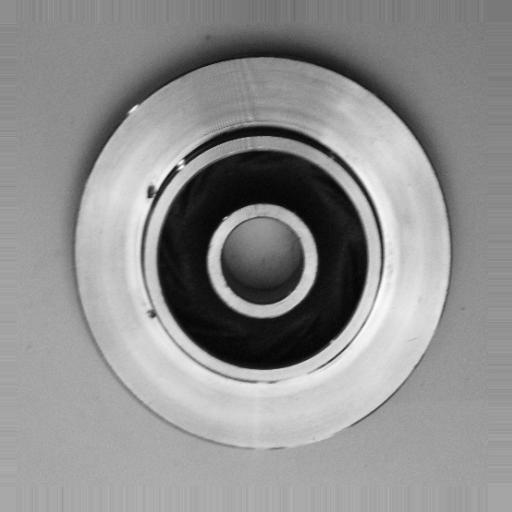crack: (135, 301, 160, 327), (137, 181, 164, 204)
scratch: (168, 150, 192, 175)
unpolished_casting: (67, 52, 456, 452)
